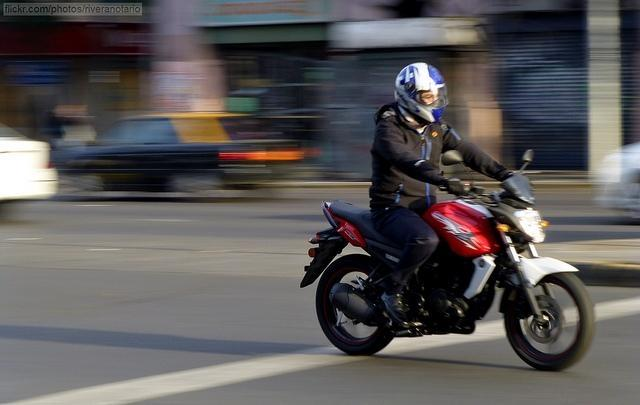car: (50, 112, 314, 194), (1, 123, 58, 202), (592, 142, 640, 211)
motorcycle: (297, 148, 597, 370)
